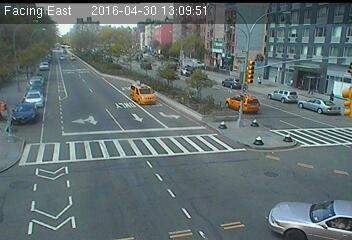neg: (304, 115, 341, 165), (194, 154, 224, 194), (22, 108, 47, 141), (139, 150, 163, 182), (38, 172, 61, 203), (275, 40, 295, 67), (73, 73, 92, 100), (88, 149, 107, 174), (12, 43, 30, 67), (275, 122, 292, 144), (138, 85, 154, 107), (59, 40, 75, 62), (249, 132, 264, 151), (194, 90, 208, 108), (244, 89, 256, 105)
pos: (325, 88, 337, 104), (308, 80, 320, 96)
